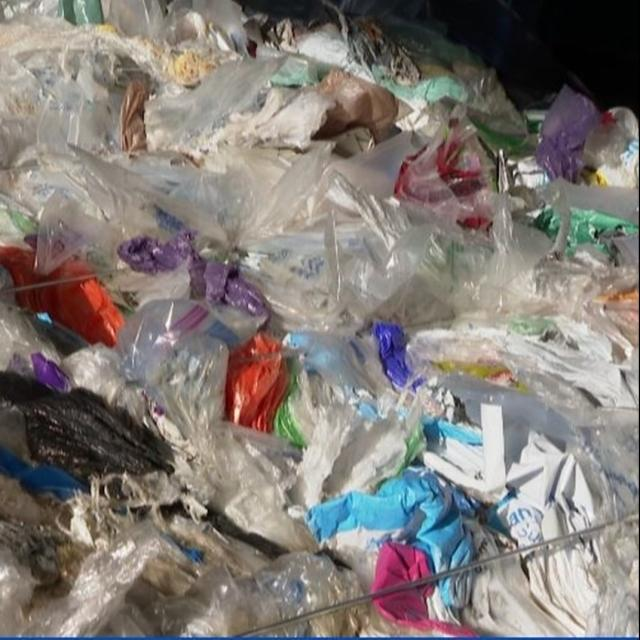Single-layer Plastic: (241, 132, 457, 332), (0, 18, 162, 168), (0, 521, 168, 636), (161, 551, 361, 636), (37, 154, 144, 253), (536, 85, 600, 182)
